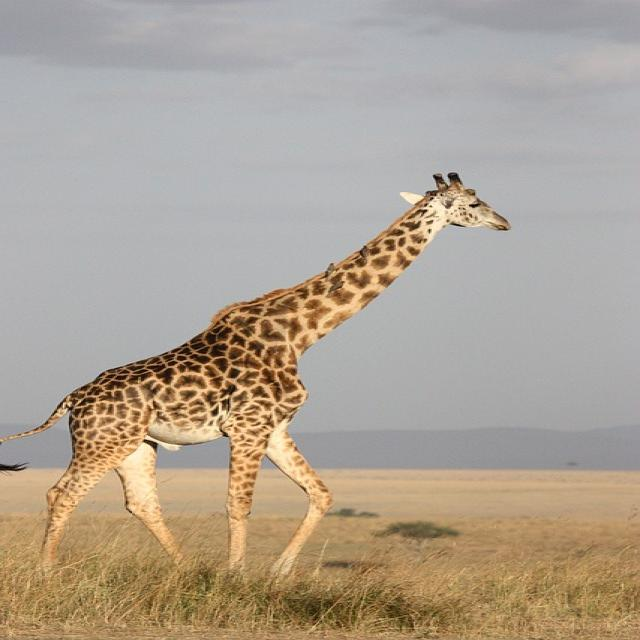Herbivorous: (7, 174, 513, 583)
